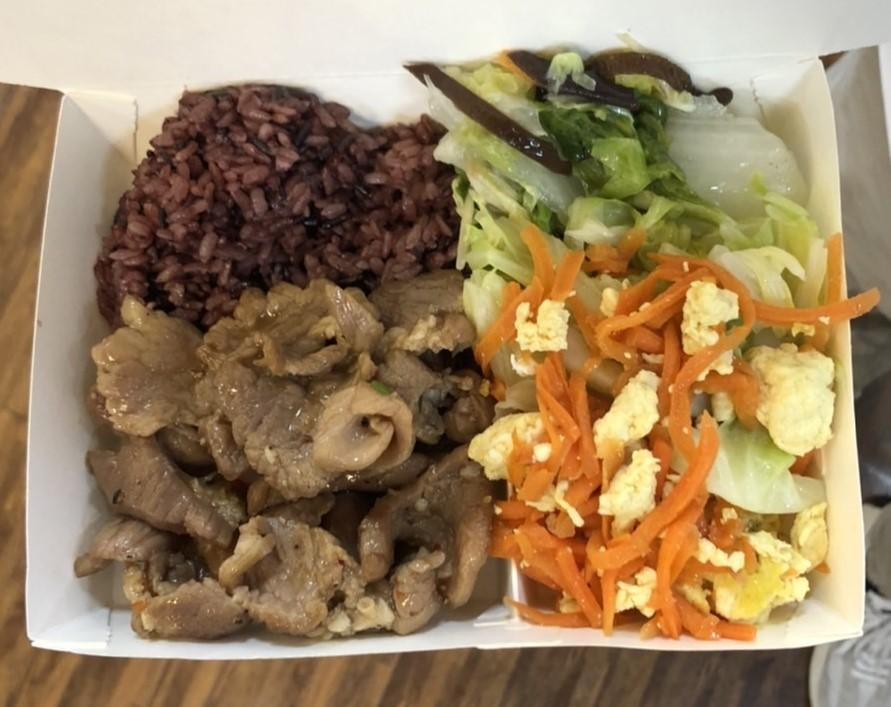big grilled chicken leg: (25, 70, 873, 664)
braised fish: (97, 87, 458, 328)
braised fish fillet: (507, 244, 814, 629), (445, 40, 827, 230), (463, 199, 824, 383)
braised pork: (75, 279, 514, 641)
